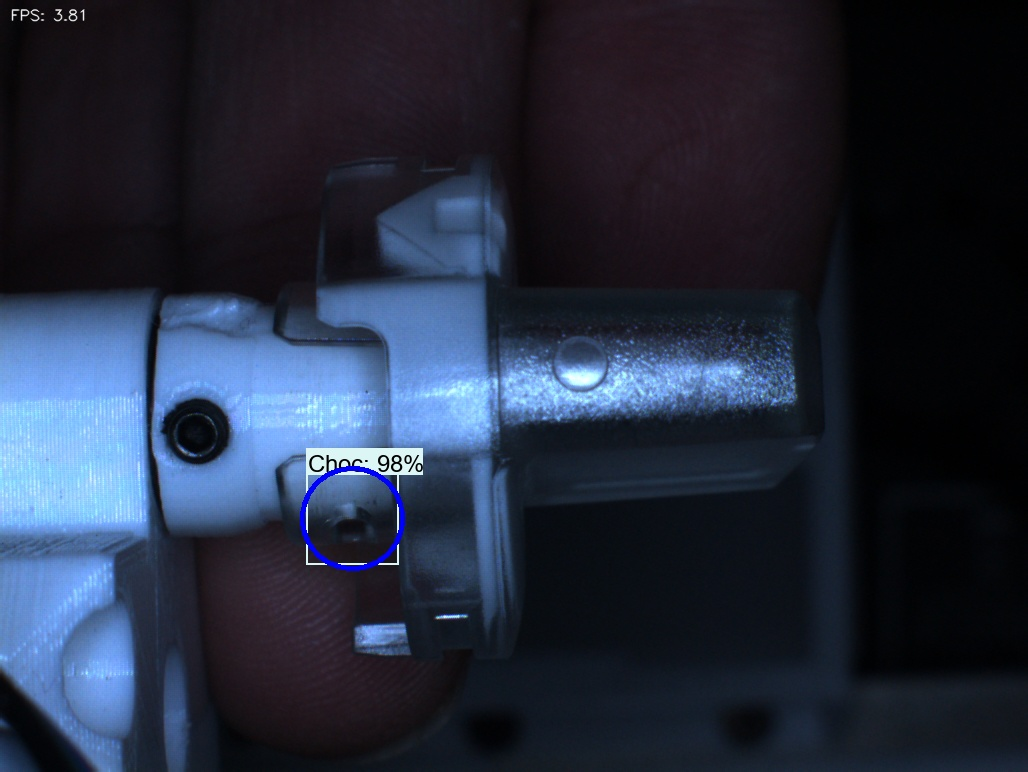DentOk: (349, 184, 429, 276)
